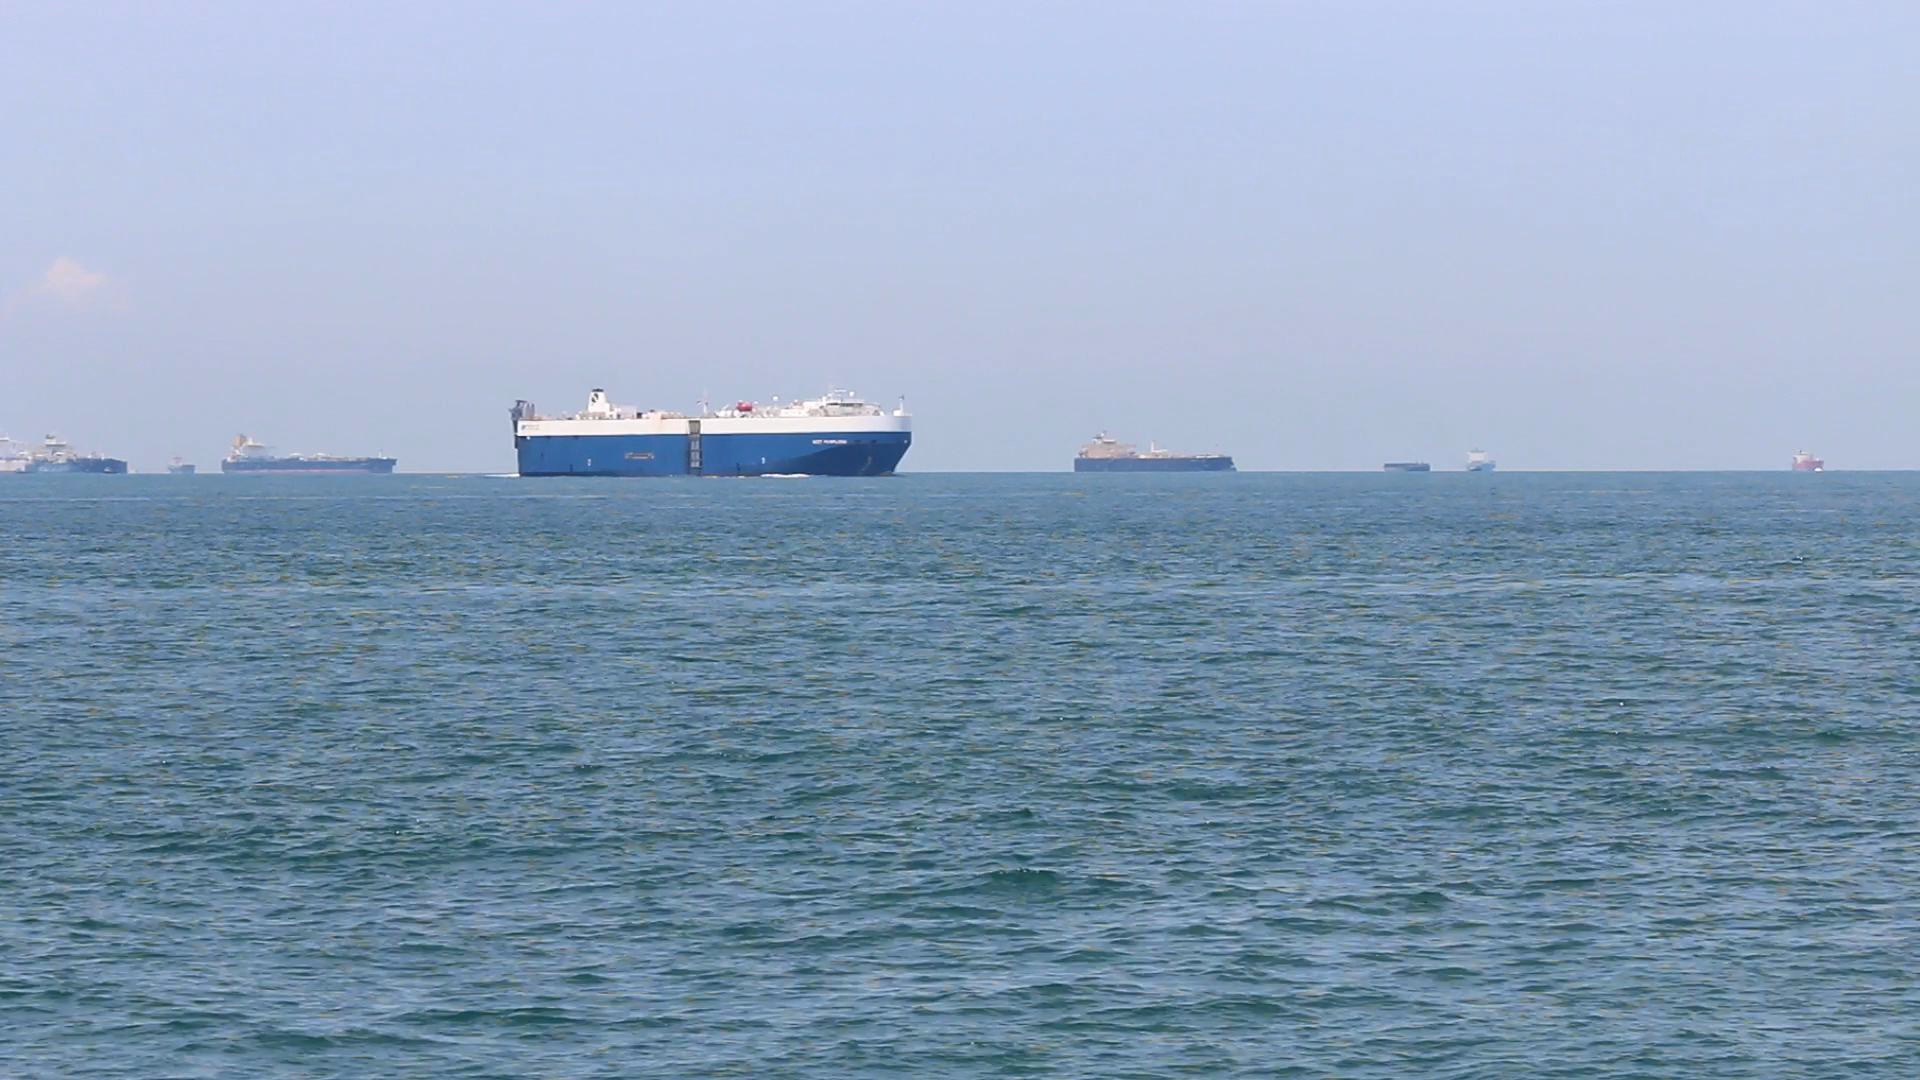Container Ship: (510, 396, 923, 479), (1063, 426, 1226, 476), (215, 434, 394, 471), (26, 423, 132, 485), (0, 435, 44, 481), (1779, 442, 1832, 476), (1449, 443, 1499, 479), (1375, 455, 1433, 479)
